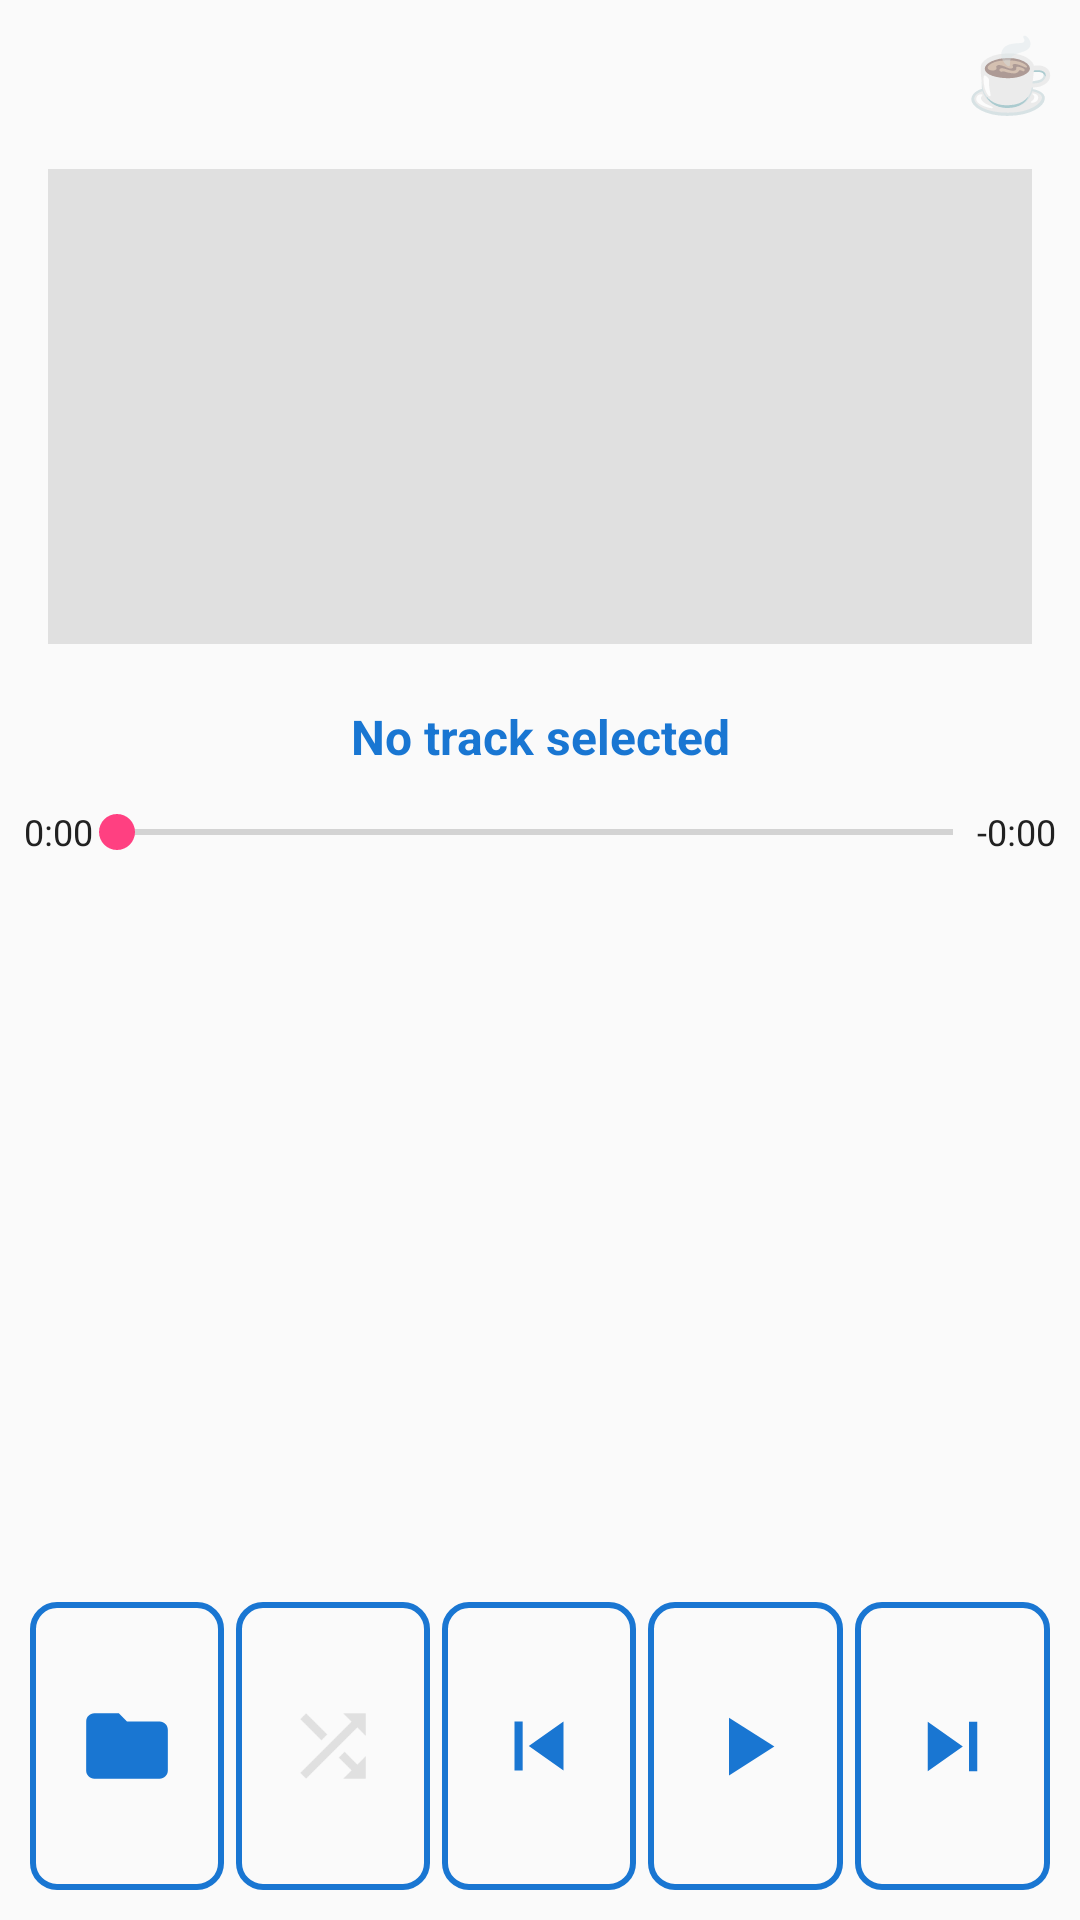

Icons on this 1080 x 1920 Android screen, each with the point to tap as (x,y):
Next track: (952,1746)
Play/Pause: (745,1746)
Previous track: (539,1746)
Shuffle OFF: (333,1746)
📁 Pick Folder: (127,1746)
